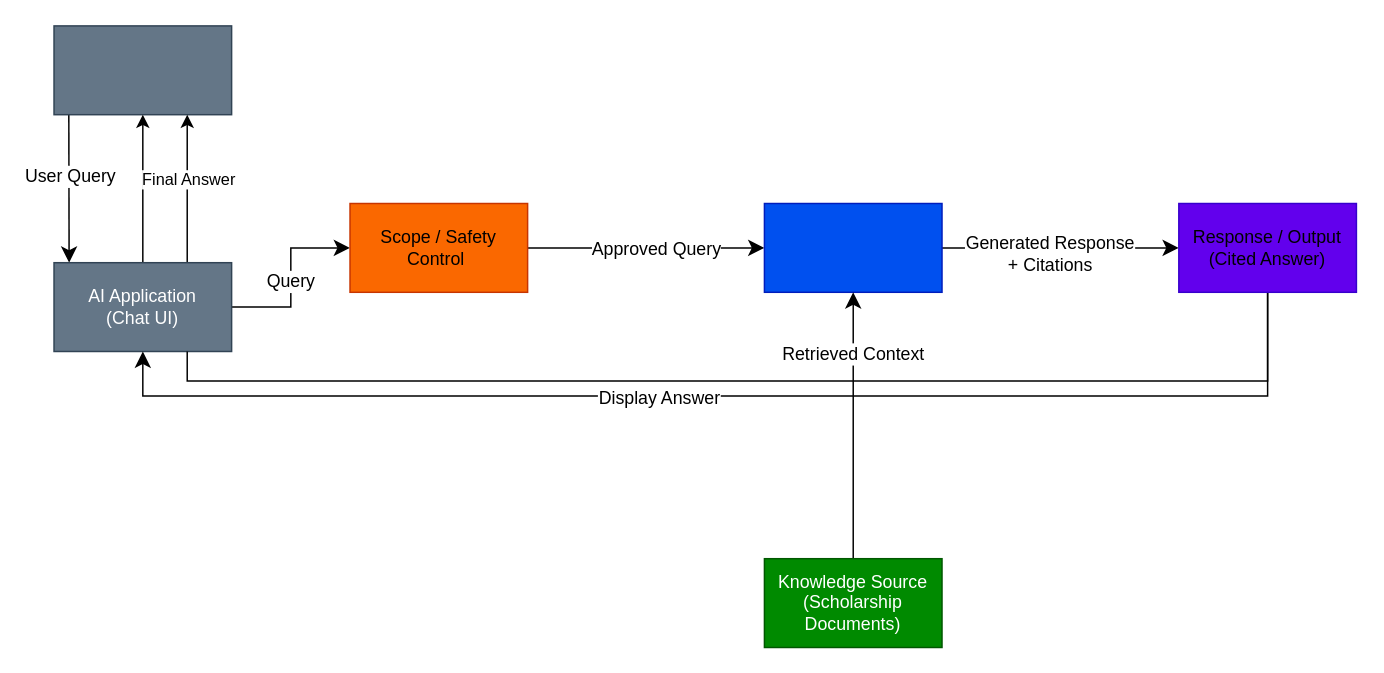
Some shapes in this 1384 by 673 pixel diagram are drawn without their labels. Each missing label, with the centre of its shape:
"AI Capability (Language Model Service)" belongs at [852,247].
"User" belongs at [142,69].
